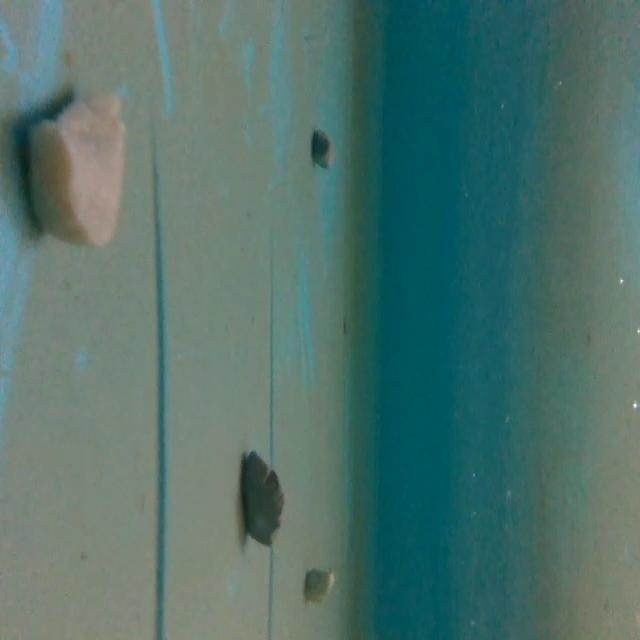rock: (14, 81, 132, 255), (240, 443, 284, 548), (306, 125, 342, 173), (304, 565, 338, 607)
